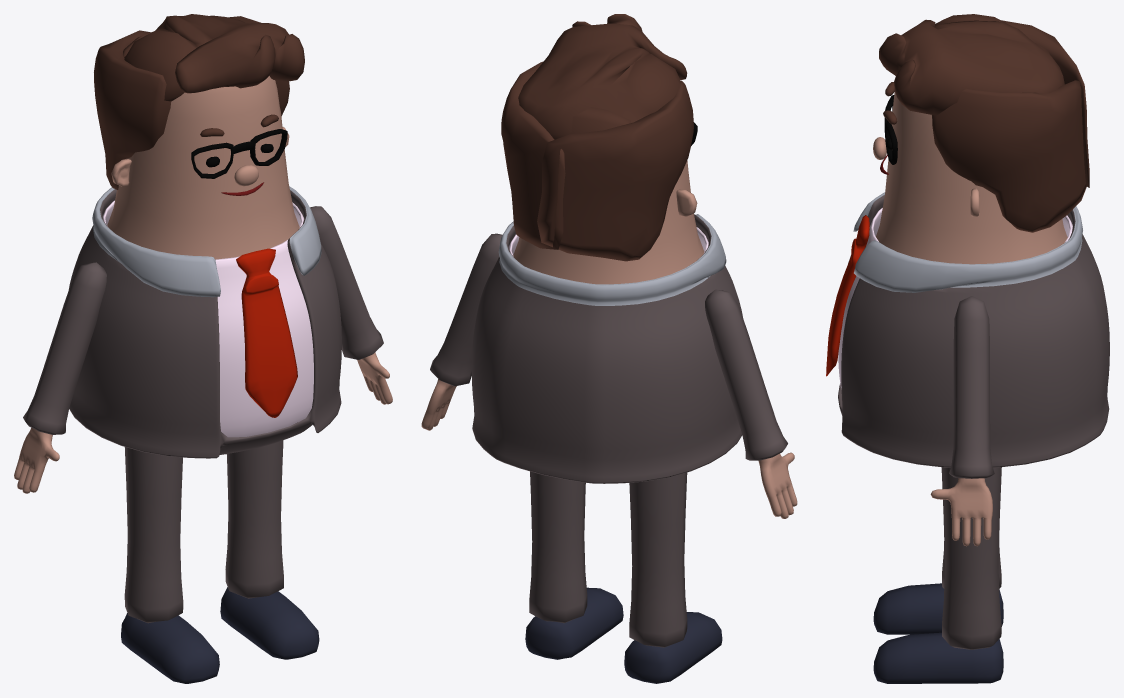
The model's file is critic.fbx.
3 views of the same model, side by side, from view 1: azimuth 30°, elevation 25°; view 2: azimuth 150°, elevation 25°; view 3: azimuth 270°, elevation 25° (orthographic). The views are drawn at different scales.
Parts seen in each view (by area): view 1: Plane.003, Cube, Cube.018, Cube.002, Cube.009, Cube.013, Cube.004, Cube.012, Cube.010, Cube.027; view 2: Plane.003, Cube.018, Cube.002, Cube.013, Cube.009, Cube, Cube.004, Cube.012, Cube.010; view 3: Plane.003, Cube.018, Cube, Cube.004, Cube.009, Cube.012, Cube.010, Cube.027.
Part boxes in pixels (x1,y1,x2,y2): Plane.003: [68, 186, 341, 458]; Cube: [107, 76, 299, 259]; Cube.018: [94, 14, 304, 189]; Cube.002: [124, 447, 183, 623]; Cube.009: [225, 440, 283, 598]; Cube.013: [14, 262, 106, 493]; Cube.004: [310, 206, 392, 404]; Cube.012: [220, 587, 319, 659]; Cube.010: [121, 613, 219, 683]; Cube.027: [191, 129, 287, 178]; Plane.003: [471, 214, 743, 483]; Cube.018: [501, 14, 693, 261]; Cube.002: [629, 472, 687, 647]; Cube.013: [705, 289, 797, 518]; Cube.009: [529, 471, 587, 623]; Cube: [513, 160, 704, 284]; Cube.004: [421, 233, 502, 430]; Cube.012: [525, 587, 623, 659]; Cube.010: [624, 612, 722, 683]; Plane.003: [826, 192, 1109, 467]; Cube.018: [879, 14, 1089, 232]; Cube: [873, 92, 1067, 264]; Cube.004: [930, 296, 994, 546]; Cube.009: [941, 467, 1001, 649]; Cube.012: [873, 632, 1003, 683]; Cube.010: [873, 583, 1003, 634]; Cube.027: [884, 95, 897, 164].
Bounding box in the file's own units: 261 × 423 × 173.
1 material, 1 textured.
